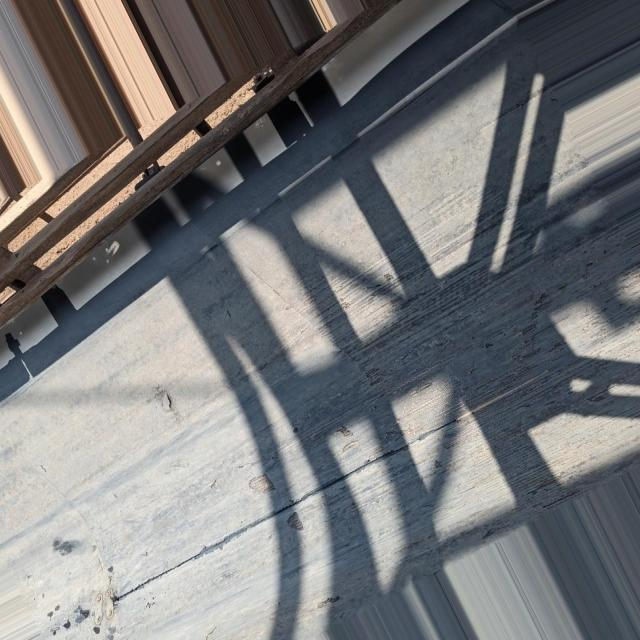Tear: (115, 410, 454, 608)
patch work: (92, 583, 117, 632), (246, 467, 276, 497), (161, 389, 177, 412)
